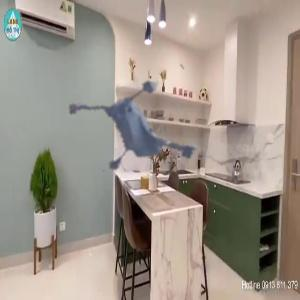drone: (81, 55, 229, 203)
